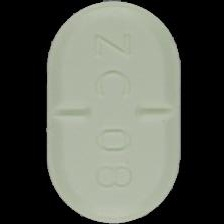64725-0080: (0, 0, 224, 224)
